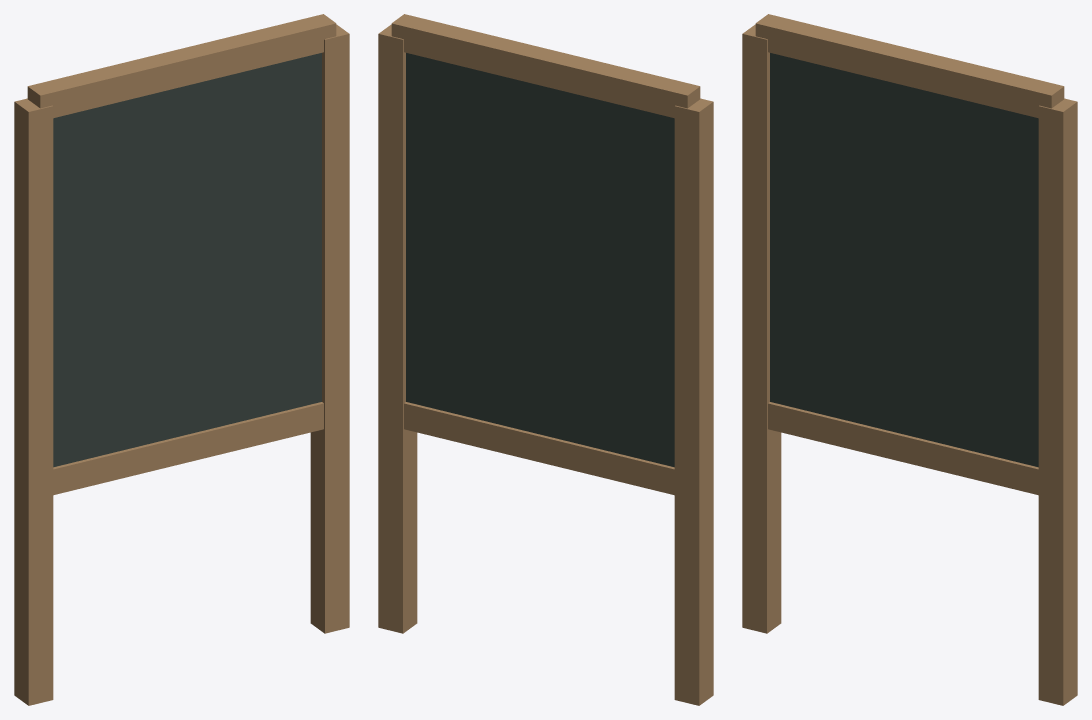
The model's file is MenuBoard.glb.
3 renders of one model, left to right at view 1: azimuth 30°, elevation 25°; view 2: azimuth 150°, elevation 25°; view 3: azimuth 330°, elevation 25°, orthographic.
Visible parts, largest first — view 1: MenuBoard; view 2: MenuBoard; view 3: MenuBoard.
Part boxes in pixels (x1=…): MenuBoard: x1=14, y1=14, x2=349, y2=705; MenuBoard: x1=378, y1=14, x2=713, y2=705; MenuBoard: x1=742, y1=14, x2=1077, y2=705.
Bounding box in the file's own units: 0.65 × 1.17 × 0.05.
